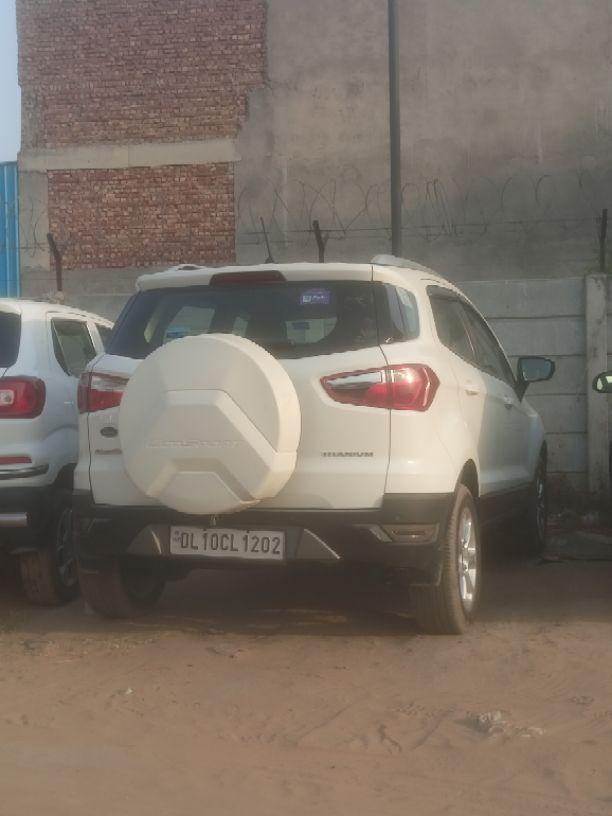license_plate: (167, 523, 286, 561)
